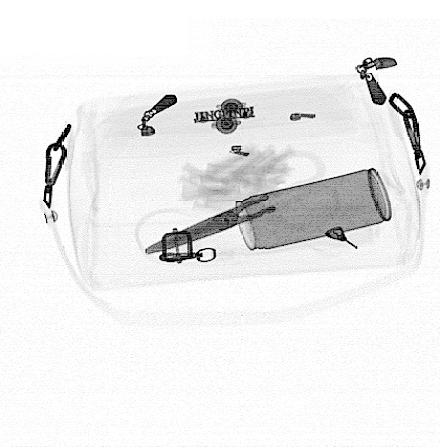Scissors: (140, 146, 346, 259)
